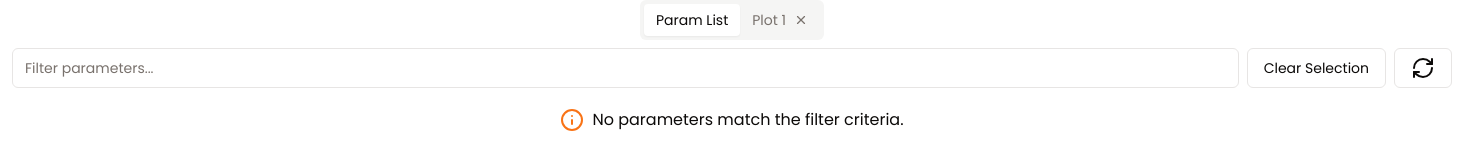
Test tabbed parameter content › Should switch to a plot when clicked
Check: the text "Plot 1" is shown, box [752,10,808,30]
Click the tab "Plot 1" at (780,20), box [740,4,820,36]
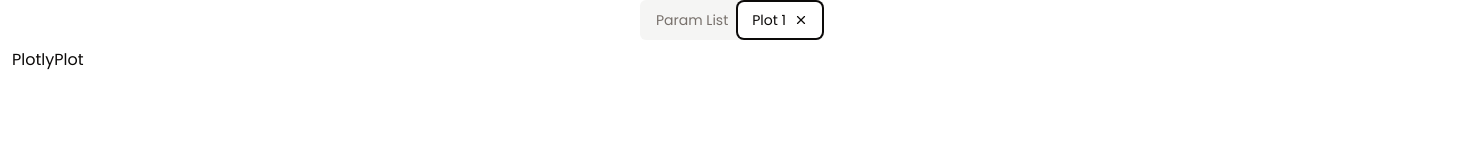
Check: the text "PlotlyPlot" is shown, box [12,48,84,71]
